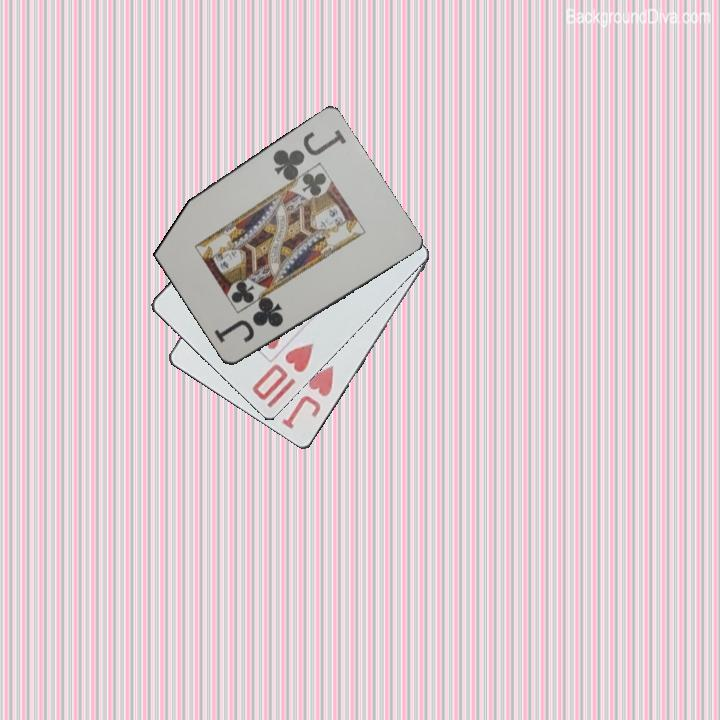Jc: (269, 126, 349, 184), (212, 296, 286, 347)
Jh: (278, 362, 337, 433)
Th: (248, 340, 317, 404)
